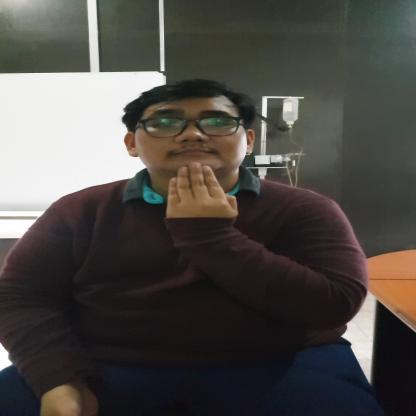Selamat-Terimakasih: (158, 158, 246, 232)
